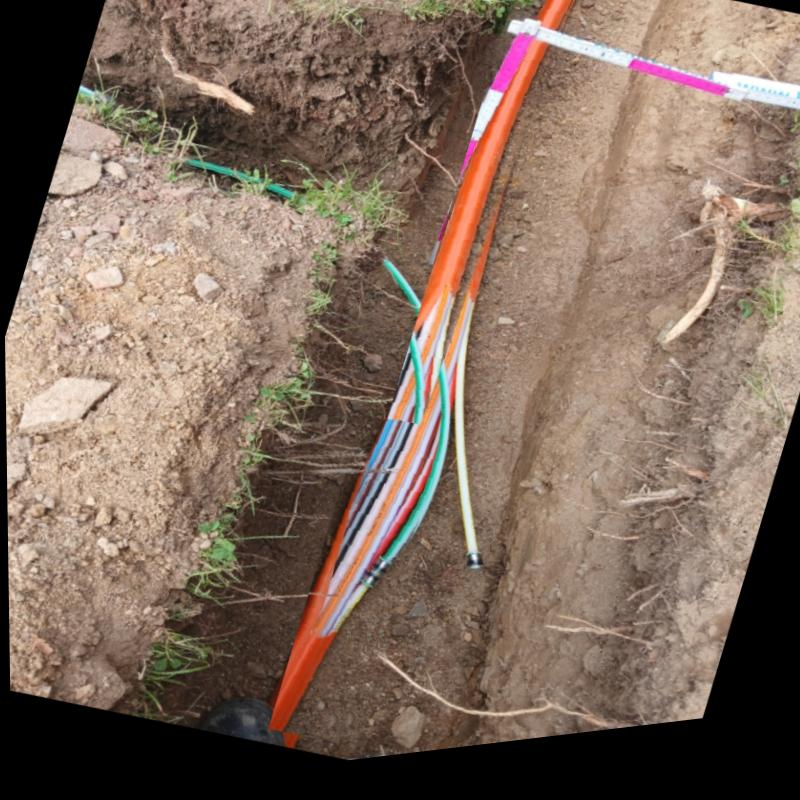Orang-Speednetrohrchen: (386, 0, 578, 435), (271, 448, 438, 739)
